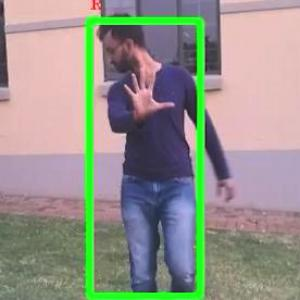follow_hand: (116, 63, 176, 124)
